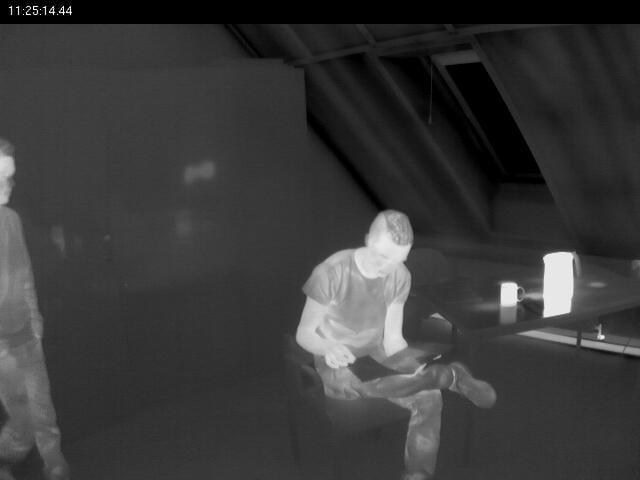person: (294, 205, 503, 479), (1, 120, 80, 477)
